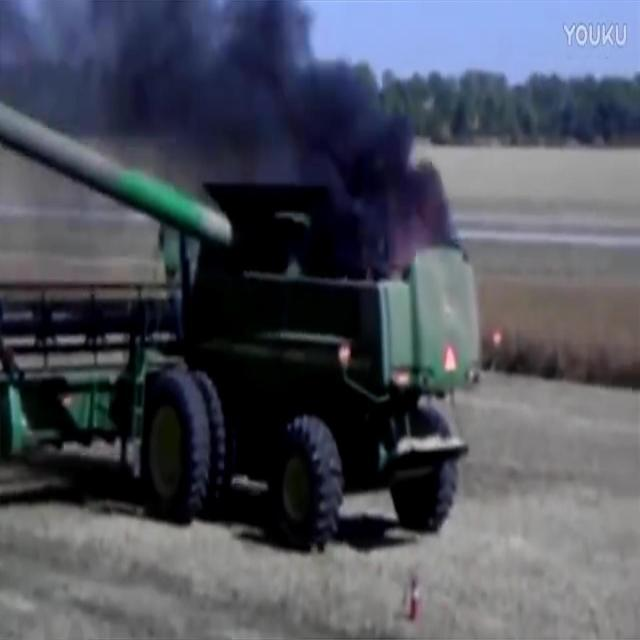Smoke: (2, 4, 465, 257)
